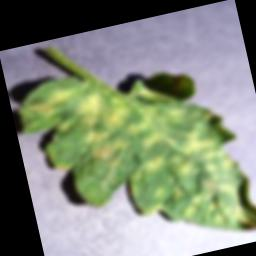Leaf_Mold: (10, 39, 256, 256)
